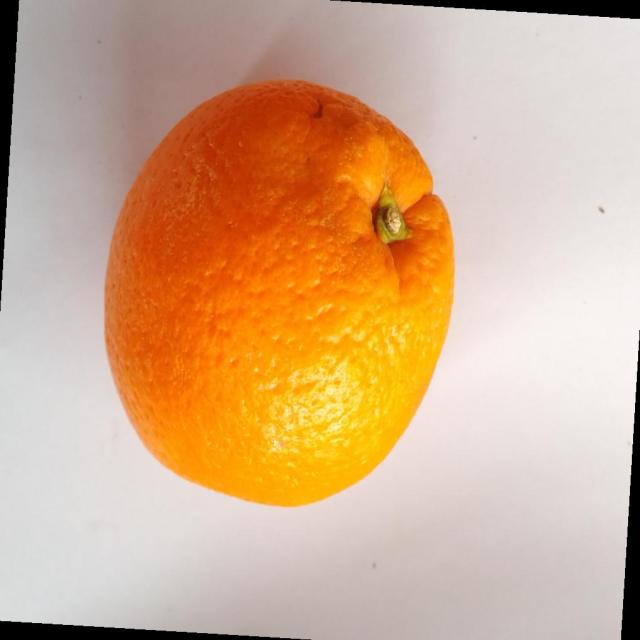fresh orange: (102, 77, 456, 508)
